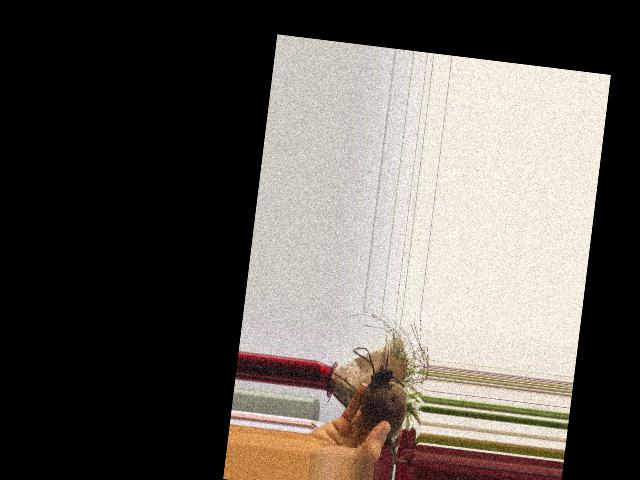beet: (340, 346, 420, 462)
